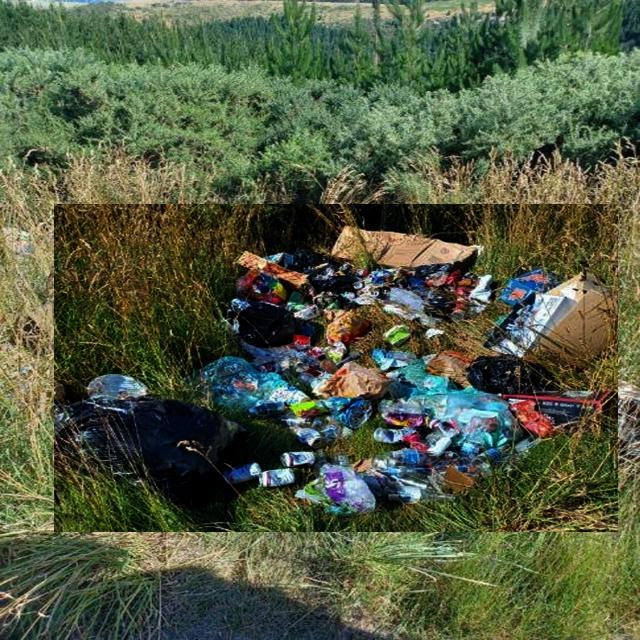dumping: (54, 204, 618, 532)
